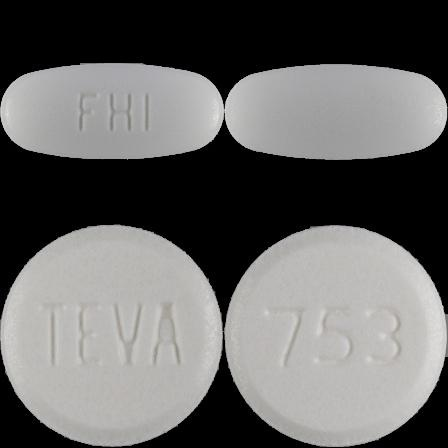68012-495: (0, 0, 224, 224)
